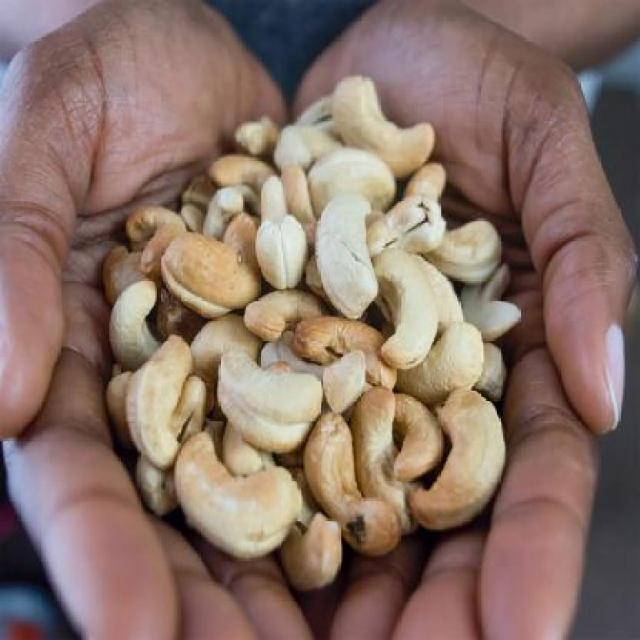Frutta secca: (92, 76, 518, 578)
